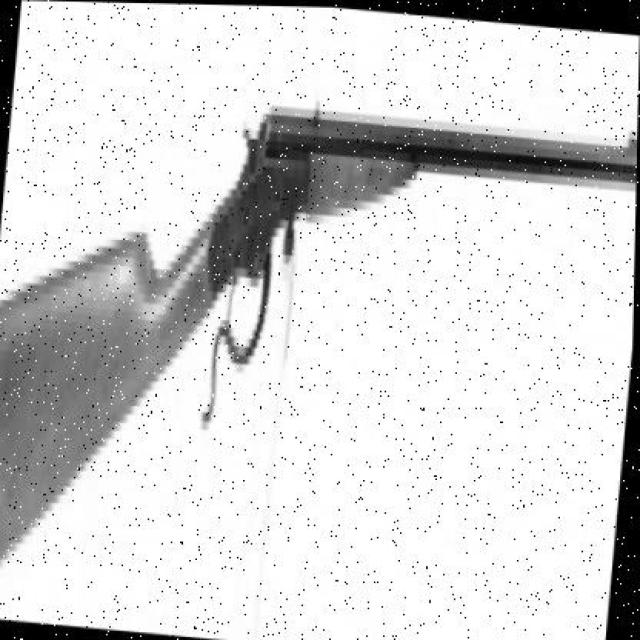weapon: (1, 102, 639, 566)
